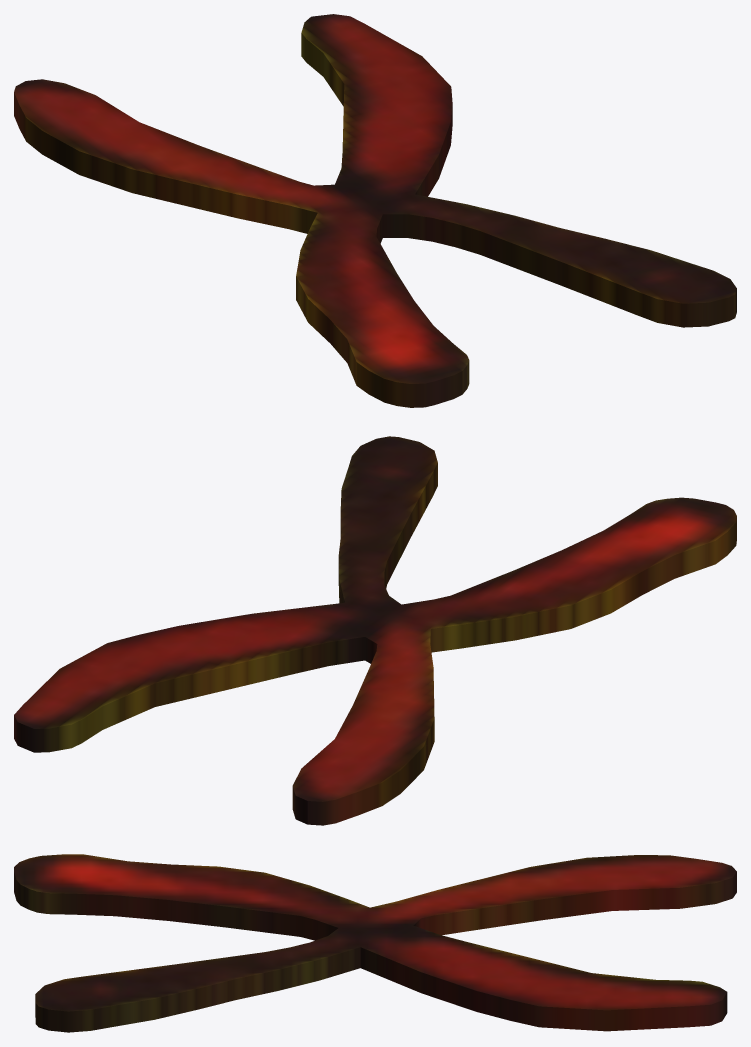
File: mural medicina central 6.dae
3 renders of one model, top to bottom at view 1: azimuth 30°, elevation 25°; view 2: azimuth 150°, elevation 25°; view 3: azimuth 270°, elevation 25°, orthographic. The views are drawn at different scales.
Parts seen in each view (by area): view 1: SketchUp; view 2: SketchUp; view 3: SketchUp.
Boxes of the visible parts, bbox=[...] form: SketchUp: bbox=[14, 14, 736, 407]; SketchUp: bbox=[14, 436, 736, 825]; SketchUp: bbox=[14, 854, 736, 1032].
Size of the model in its own units: 6.02 by 11.7 by 0.375.
1 material, 1 textured.
